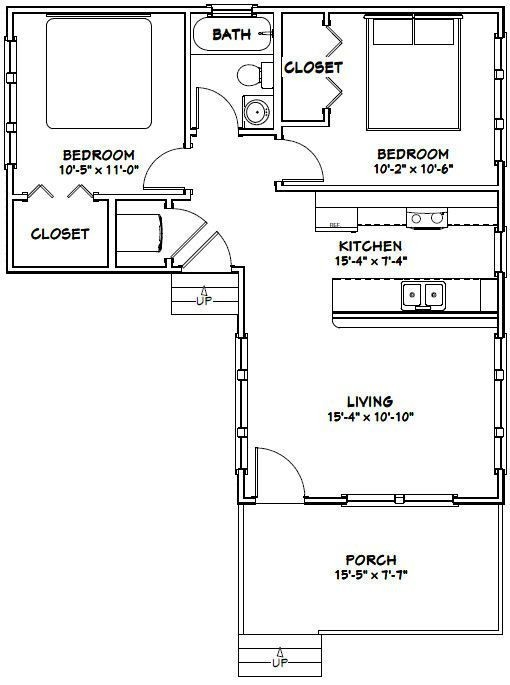door: (174, 206, 234, 268), (250, 448, 313, 504), (136, 149, 186, 192), (196, 85, 239, 133), (284, 137, 328, 180)
room: (233, 327, 507, 506), (278, 10, 507, 188), (5, 7, 191, 198), (276, 182, 502, 335), (185, 11, 282, 142)
wall: (274, 179, 498, 196), (255, 6, 505, 15), (9, 263, 186, 275), (4, 4, 211, 13), (183, 8, 194, 150), (5, 168, 17, 272), (274, 9, 284, 128), (231, 266, 248, 332), (105, 194, 119, 267), (98, 192, 191, 200), (498, 275, 507, 331), (305, 496, 344, 506), (457, 495, 505, 503), (241, 474, 247, 505)
window: (231, 335, 251, 472), (494, 34, 510, 162), (3, 35, 18, 166), (495, 335, 509, 474), (492, 223, 510, 281)
